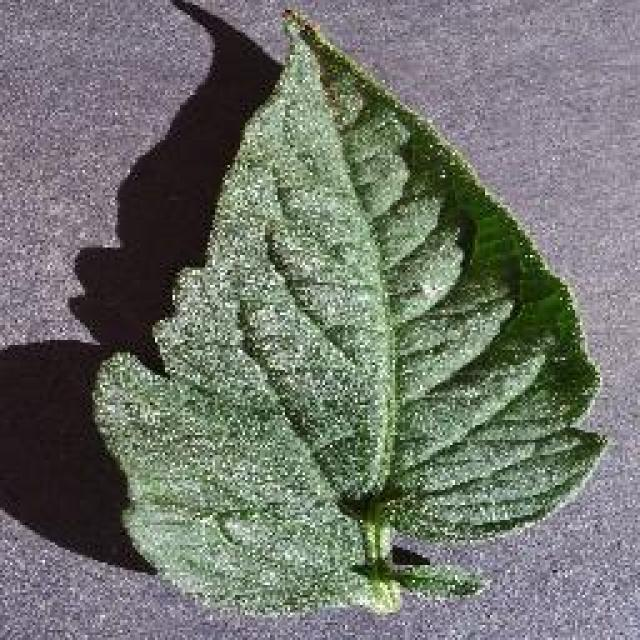Tomato_Healthy: (62, 18, 618, 625)
